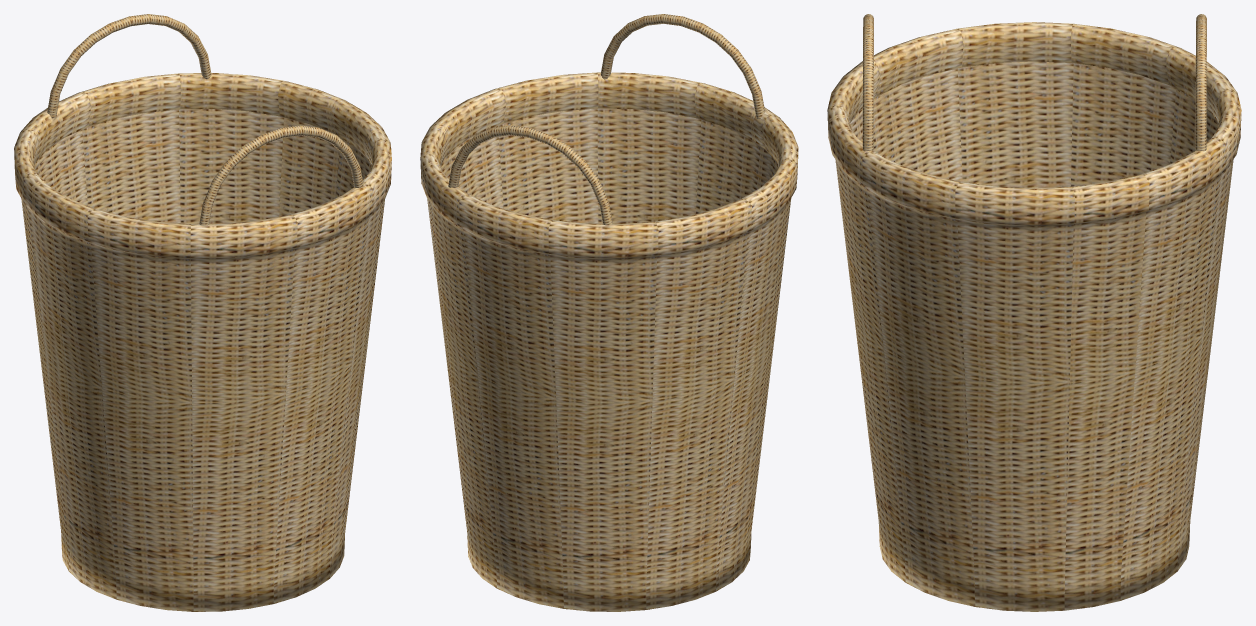
The model's file is clothes_basket.glb.
The picture shows the model from 3 angles, left to right: view 1: azimuth 30°, elevation 25°; view 2: azimuth 150°, elevation 25°; view 3: azimuth 270°, elevation 25°; orthographic projection. The views are drawn at different scales.
Parts seen in each view (by area): view 1: BezierCurve.001; view 2: BezierCurve.001; view 3: BezierCurve.001.
Boxes of the visible parts, x1,y1,x2,y2 form: BezierCurve.001: (14,14,391,611); BezierCurve.001: (420,14,798,611); BezierCurve.001: (827,14,1241,611).
Bounding box in the file's own units: 226 × 315 × 226.
Materials: 1 (1 with a texture image).
